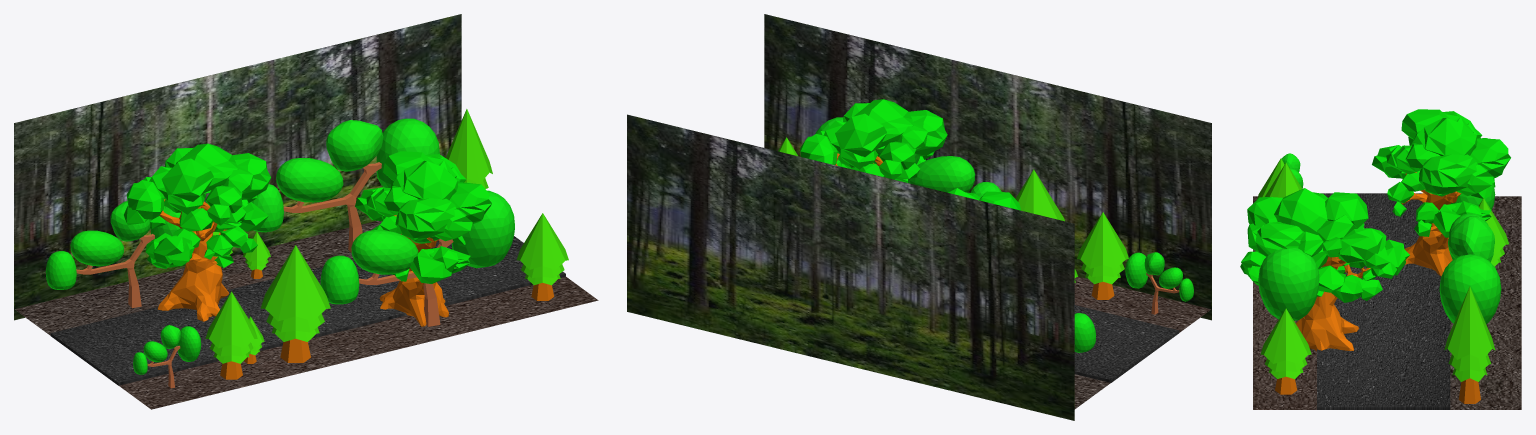
Rendered from env2.game.fbx.
3 views of the same model, side by side, from view 1: azimuth 30°, elevation 25°; view 2: azimuth 150°, elevation 25°; view 3: azimuth 270°, elevation 25° (orthographic). The views are drawn at different scales.
Visible parts, largest first — view 1: Plane.001, Plane, fattree, Plane.002, fattree.001, Icosphere.003, Icosphere.001, Icosphere.002, Cone.005, Cone.007, Cone.003, Icosphere.004 (+2 smaller); view 2: Plane.001, fattree.001, Plane.002, Plane, Cone.007, Icosphere.001, Icosphere.004, Cone.005, Icosphere.002, fattree; view 3: Plane.002, fattree.001, fattree, Plane, Icosphere.003, Icosphere.001, Cone.004, Cone.003, Cone.005, Cone.001, Icosphere.002, Icosphere.004 (+1 smaller).
Boxes of the visible parts, x1,y1,x2,y2 form: Plane.001: (14, 14, 461, 320); Plane: (14, 220, 598, 409); fattree: (124, 143, 270, 321); Plane.002: (50, 236, 565, 385); fattree.001: (355, 151, 491, 326); Icosphere.003: (251, 118, 439, 252); Icosphere.001: (320, 190, 514, 326); Icosphere.002: (45, 201, 180, 307); Cone.005: (260, 245, 330, 362); Cone.007: (205, 291, 257, 379); Cone.003: (516, 213, 568, 300); Icosphere.004: (133, 325, 201, 388); Plane.001: (627, 14, 1211, 420); fattree.001: (800, 99, 947, 182); Plane.002: (1074, 305, 1179, 382); Plane: (1074, 277, 1211, 409); Cone.007: (1077, 212, 1128, 299); Icosphere.001: (815, 117, 1001, 197); Icosphere.004: (1125, 252, 1193, 314); Cone.005: (1015, 169, 1064, 221); Icosphere.002: (1074, 313, 1096, 352); fattree: (947, 188, 1020, 210); Plane.002: (1317, 193, 1450, 409); fattree.001: (1240, 188, 1409, 351); fattree: (1372, 109, 1510, 276); Plane: (1253, 196, 1521, 409); Icosphere.003: (1439, 213, 1501, 323); Icosphere.001: (1258, 248, 1319, 322); Cone.004: (1444, 286, 1495, 403); Cone.003: (1260, 308, 1311, 394); Cone.005: (1265, 163, 1302, 197); Cone.001: (1478, 198, 1508, 266); Icosphere.002: (1451, 183, 1495, 209); Icosphere.004: (1281, 153, 1303, 188).
Bounding box in the file's own units: 1792 × 752 × 994.
